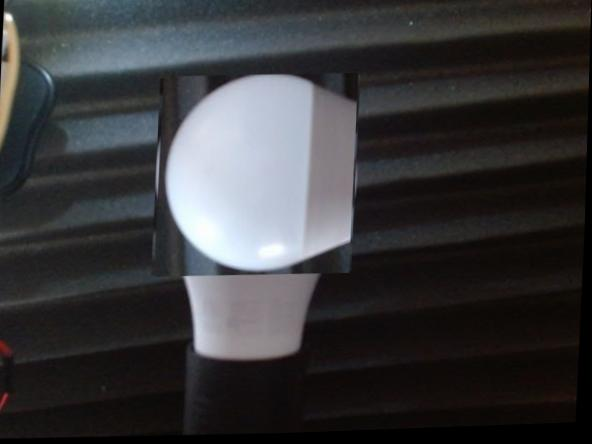Fan: (153, 74, 359, 281)
